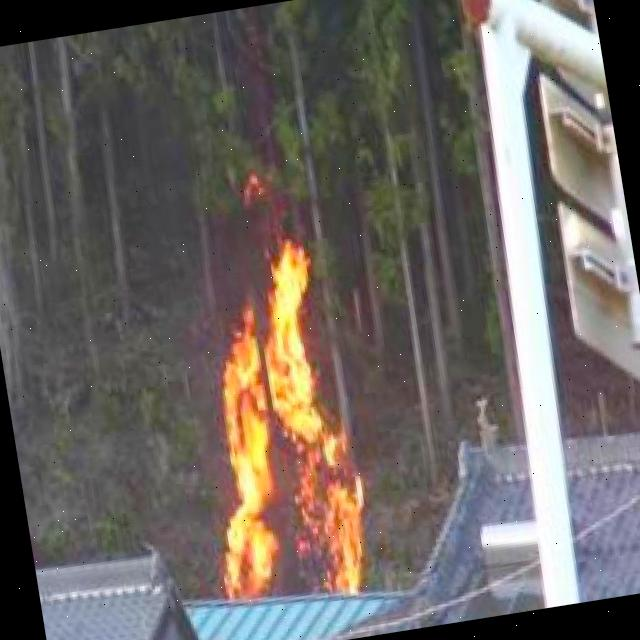fire: (177, 252, 380, 603)
